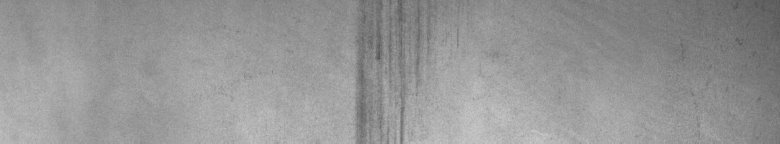ka: (349, 4, 430, 136)
